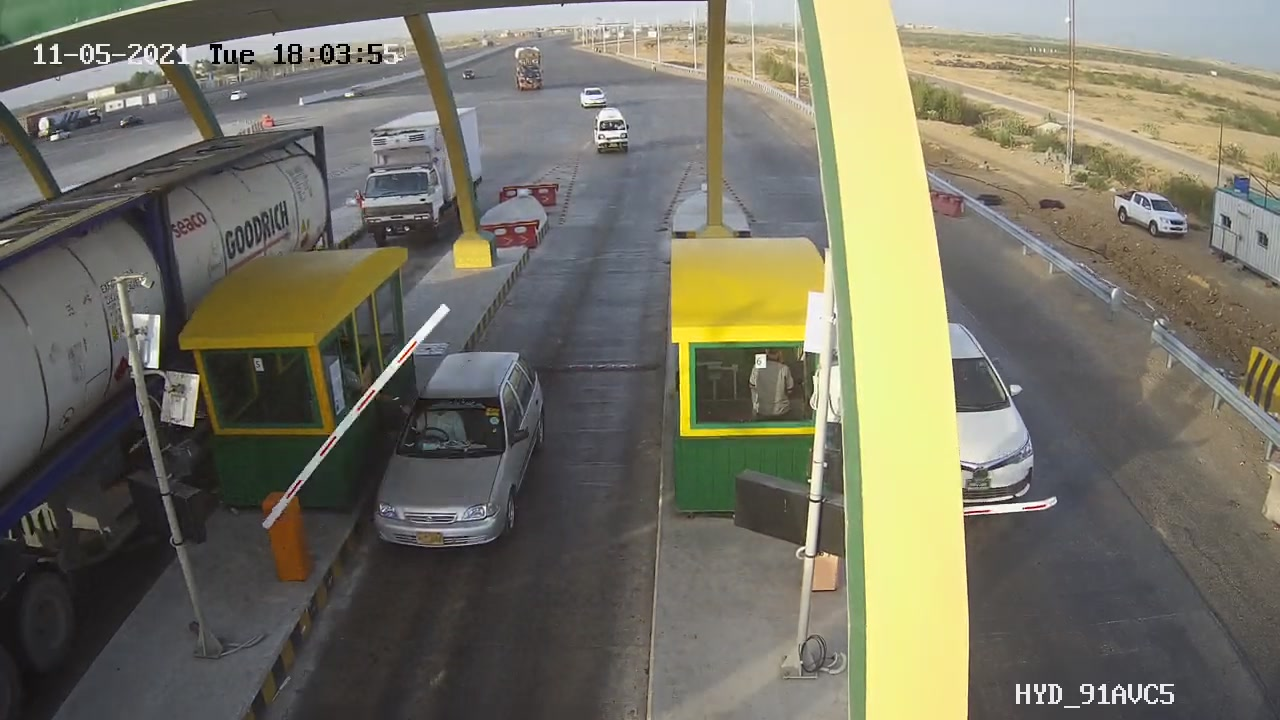F1: (363, 339, 569, 561)
